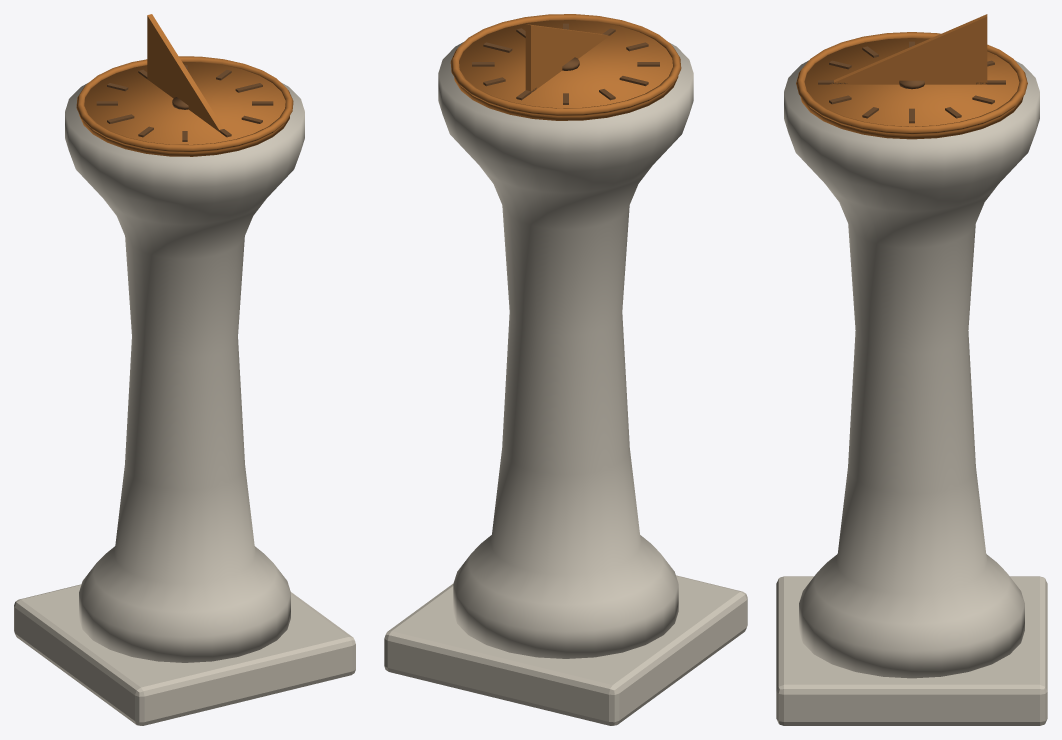
Rendered from sundial.glb.
3 renders of one model, left to right at view 1: azimuth 30°, elevation 25°; view 2: azimuth 150°, elevation 25°; view 3: azimuth 270°, elevation 25°, orthographic. The views are drawn at different scales.
Parts seen in each view (by area): view 1: sundial; view 2: sundial; view 3: sundial.
Boxes of the visible parts, x1,y1,x2,y2 form: sundial: (14, 14, 355, 725); sundial: (384, 14, 747, 725); sundial: (776, 14, 1047, 725).
Size of the model in its own units: 0.36 by 0.962 by 0.36.
